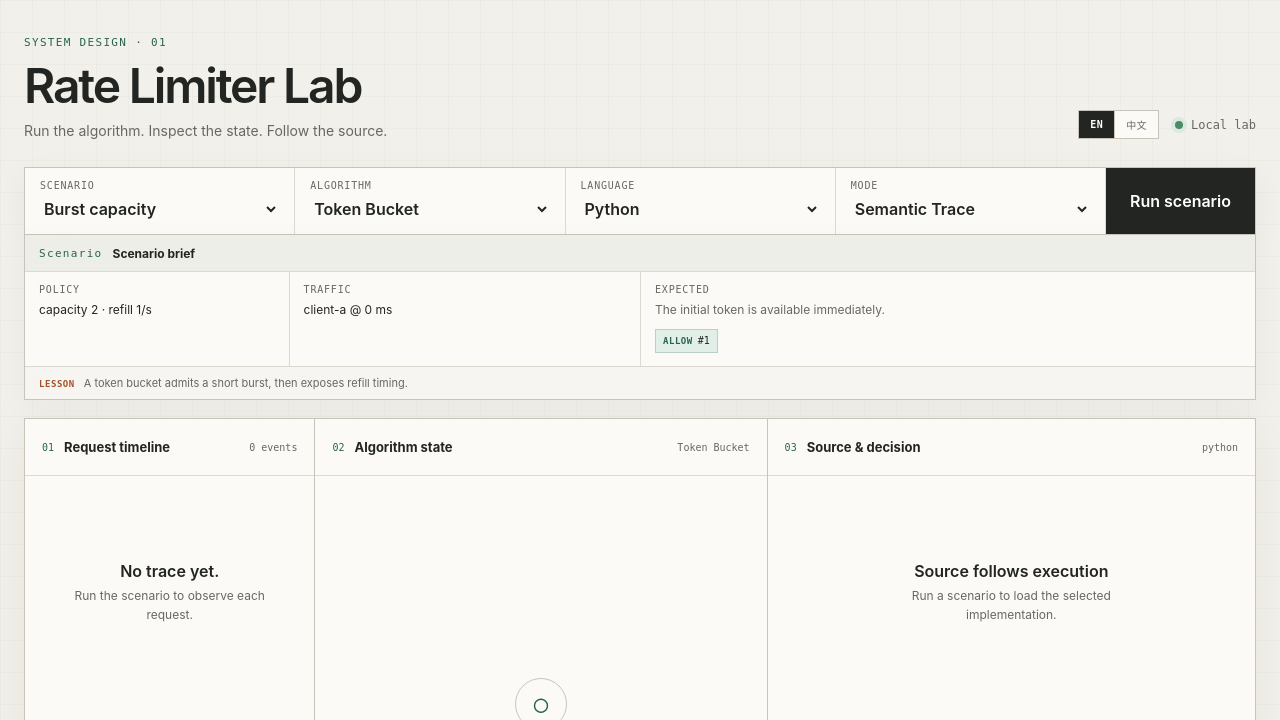
Scenario: Rate Limiter Lab › updates the system policy preview from store, failure, and replica controls
Select "Local vs shared" in the dropdown labelled "Scenario". click: [160, 209]
box: [40, 195, 279, 223]
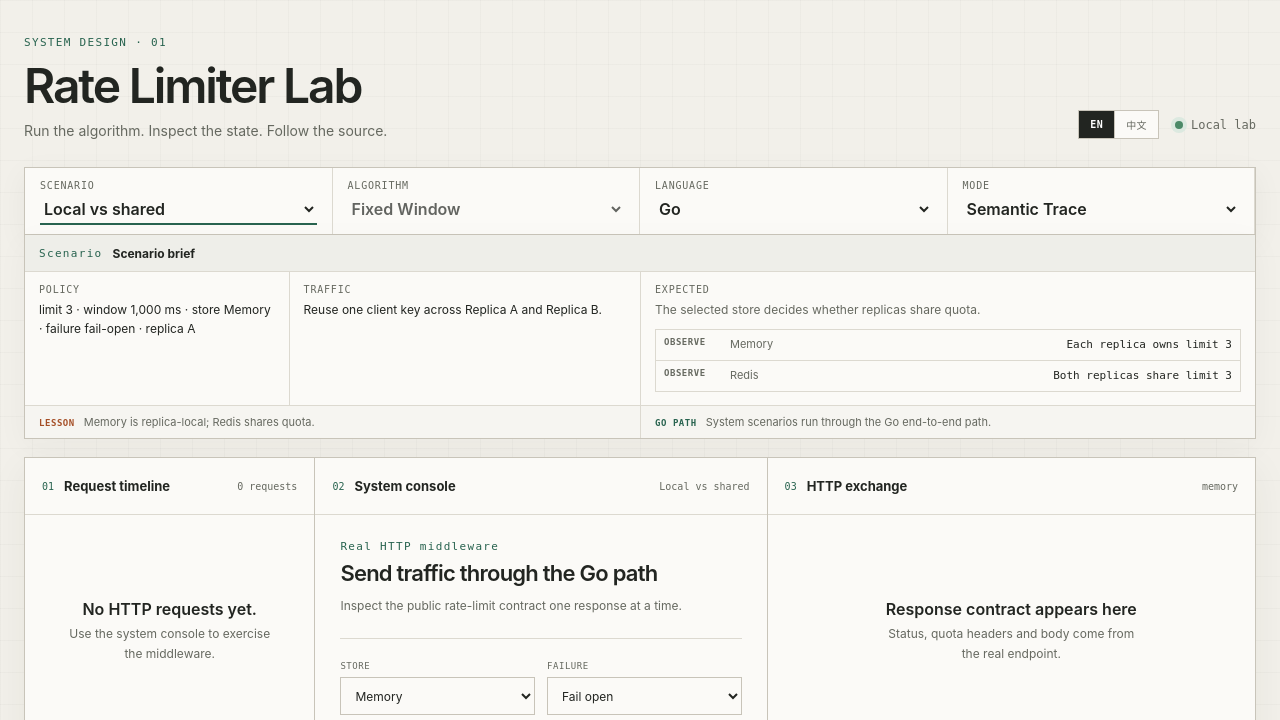
Select "Redis" in the dropdown labelled "Store". click: [438, 696]
box: [340, 677, 535, 715]
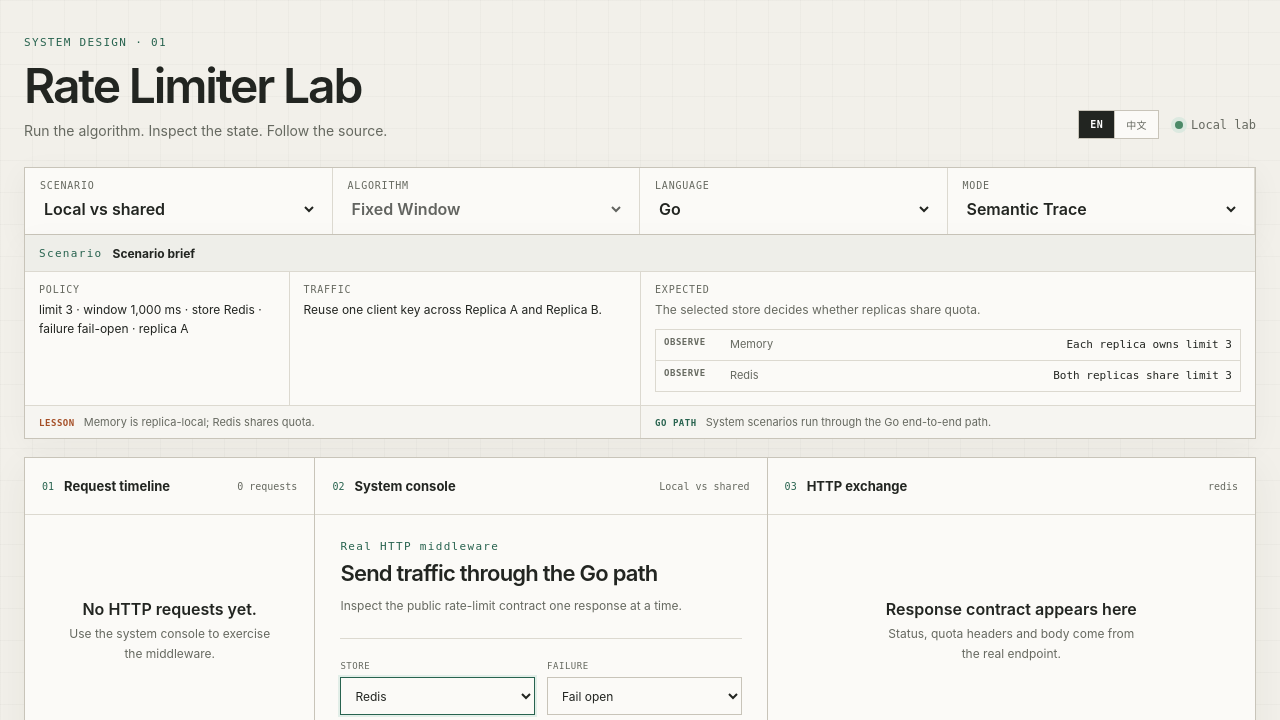
Select "Fail closed" in the dropdown named "failure policy". click: [644, 696]
box: [547, 677, 742, 715]
(page scrolled)
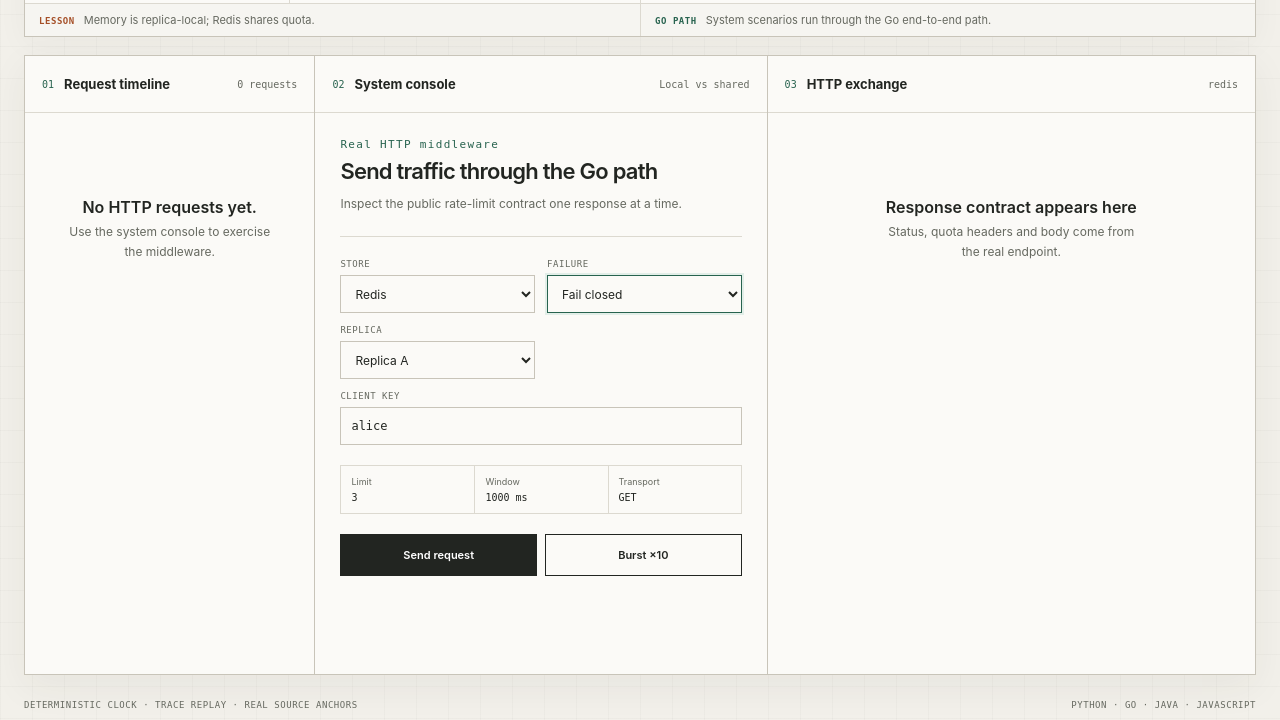
Select "Replica B" in the dropdown labelled "Replica". click: [438, 360]
box: [340, 341, 535, 379]
(page scrolled)
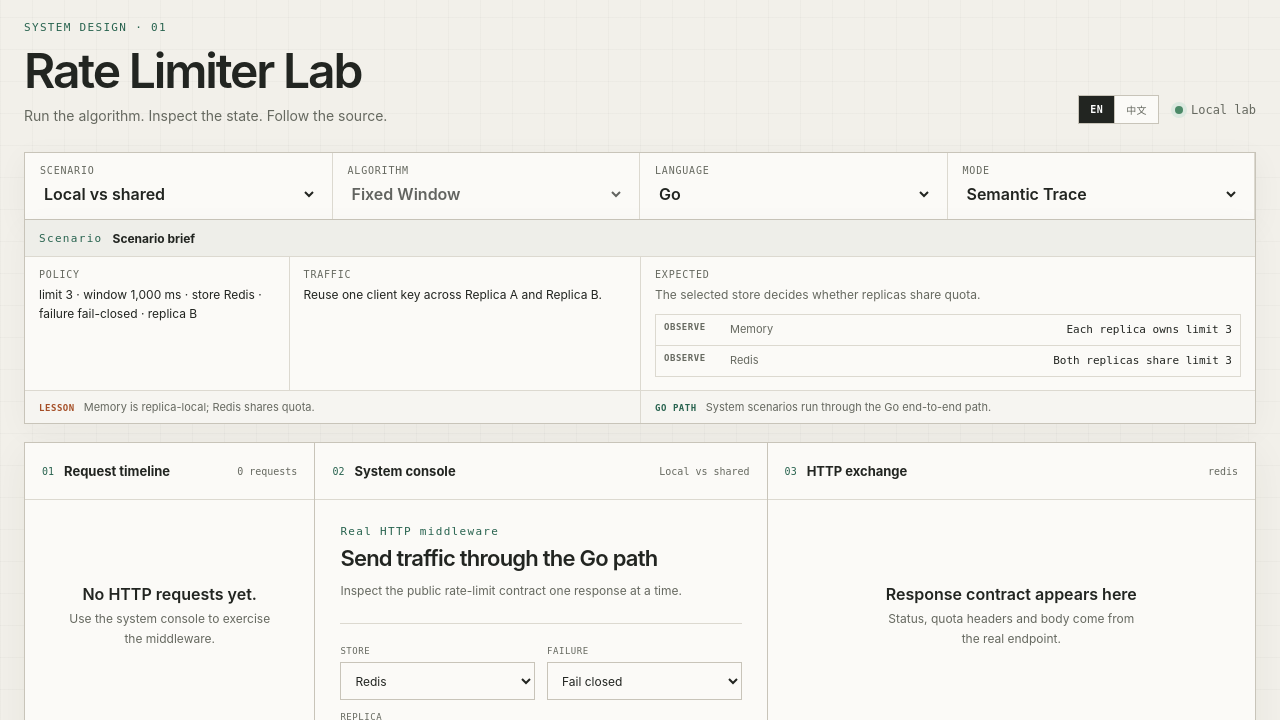
Check: the text "Memory" is shown, box [730, 322, 773, 338]
Check: the text "Each replica owns limit 3" is shown, box [1066, 322, 1232, 338]
Check: the text "limit 3 · window 1,000 ms · store Redis · failure fail-closed · replica B" is shown, box [39, 286, 275, 323]
